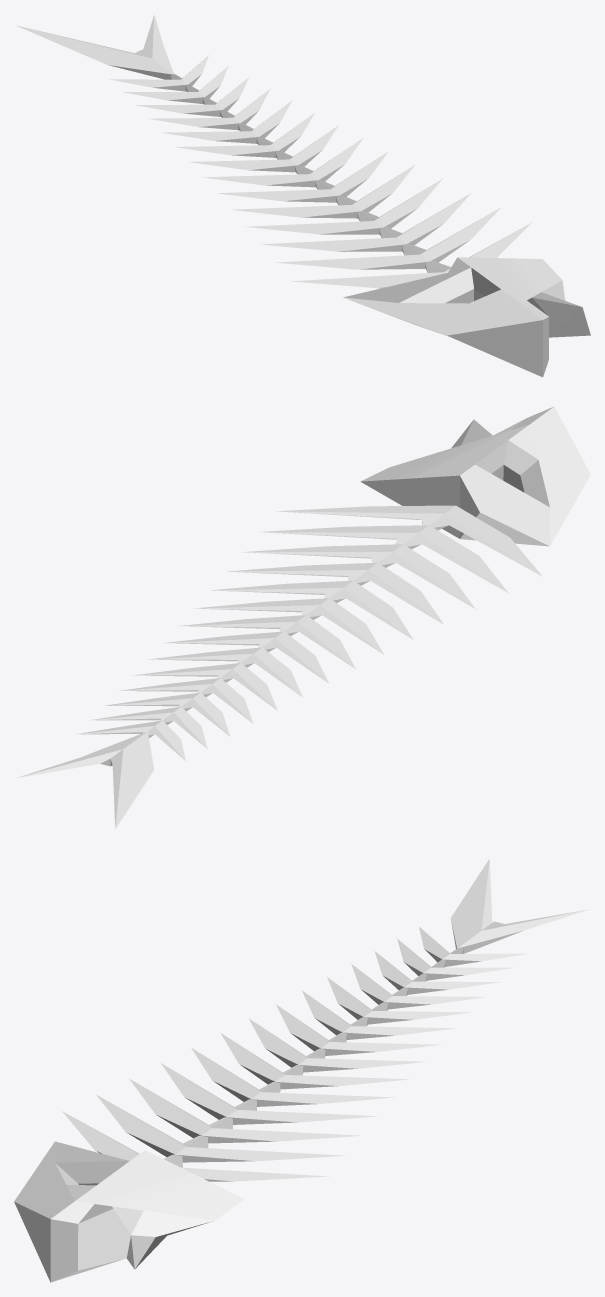
The model's file is Fishbones.fbx.
3 renders of one model, top to bottom at view 1: azimuth 30°, elevation 25°; view 2: azimuth 150°, elevation 25°; view 3: azimuth 330°, elevation 25°, orthographic. The views are drawn at different scales.
Visible parts, largest first — view 1: Fishbones; view 2: Fishbones; view 3: Fishbones.
Part boxes in pixels (<box>): Fishbones: <box>15,15,590,377</box>; Fishbones: <box>15,406,590,828</box>; Fishbones: <box>14,859,589,1282</box>.
Size of the model in its own units: 12.3 by 2.78 by 40.51.
Materials: 1 (1 with a texture image).
